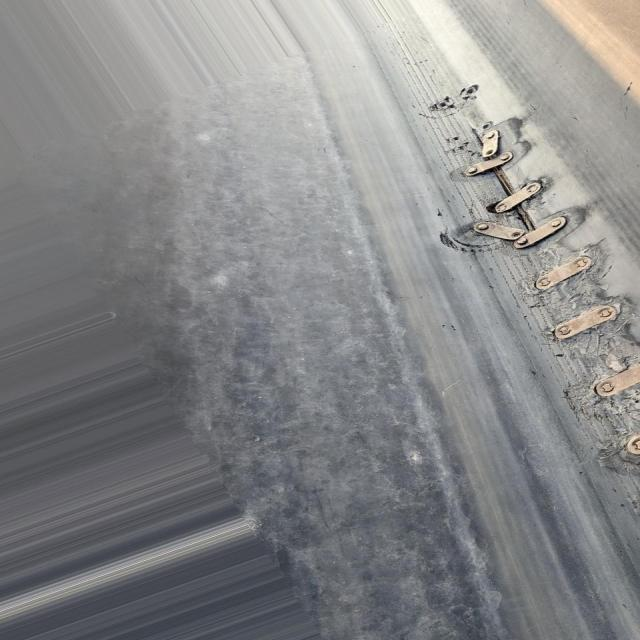patch work: (416, 78, 640, 524)
